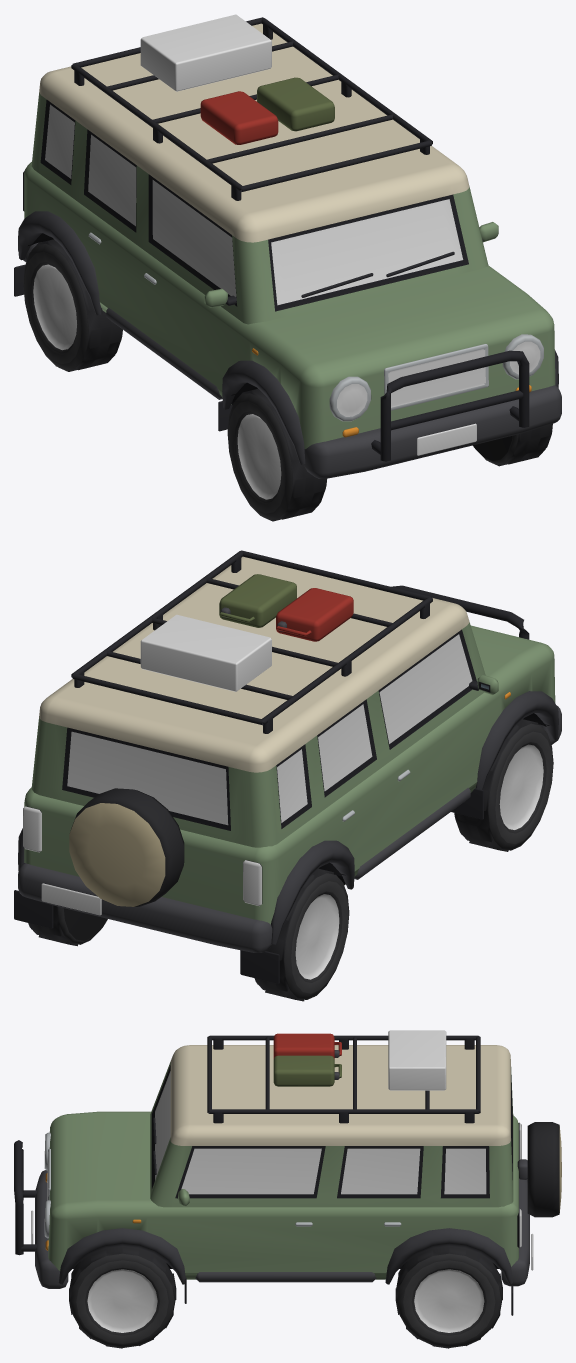
Rendered from Fourby.fbx.
The picture shows the model from 3 angles, top to bottom: view 1: azimuth 30°, elevation 25°; view 2: azimuth 150°, elevation 25°; view 3: azimuth 270°, elevation 25°; orthographic projection. The views are drawn at different scales.
Parts seen in each view (by area): view 1: Body, Wheel.RR, Wheel.FR, Wheel.FL; view 2: Body, Wheel.FR, Wheel.RR, Wheel.RL; view 3: Body, Wheel.RL, Wheel.FL.
Boxes of the visible parts, x1,y1,x2,y2 form: Body: [14, 14, 561, 478]; Wheel.RR: [23, 239, 122, 371]; Wheel.FR: [227, 388, 326, 521]; Wheel.FL: [473, 424, 552, 466]; Body: [14, 550, 561, 983]; Wheel.FR: [454, 719, 553, 851]; Wheel.RR: [254, 868, 349, 1001]; Wheel.RL: [28, 905, 107, 946]; Body: [14, 1030, 561, 1315]; Wheel.RL: [395, 1246, 502, 1348]; Wheel.FL: [69, 1246, 176, 1348].
Size of the model in its own units: 1.86 by 1.9 by 3.77.
